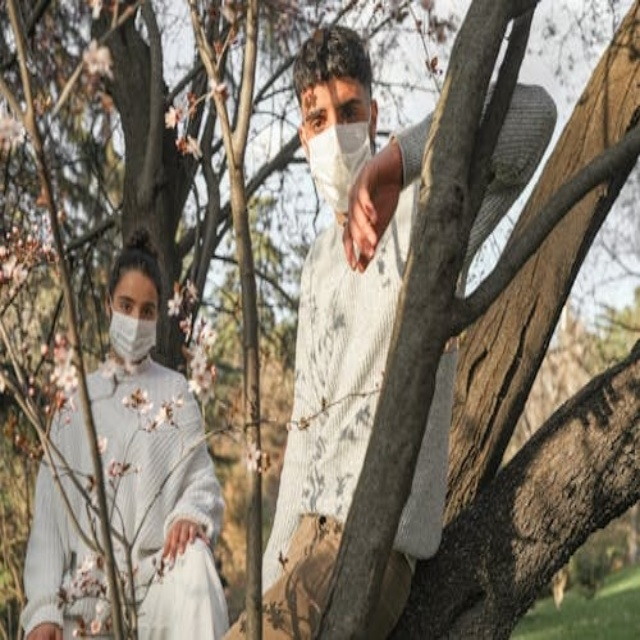Mascara: (305, 108, 373, 215), (108, 305, 158, 364)
Sin_gafas: (294, 96, 364, 140), (116, 286, 154, 315)
Sin_guantes: (343, 133, 405, 273), (163, 517, 206, 562)
